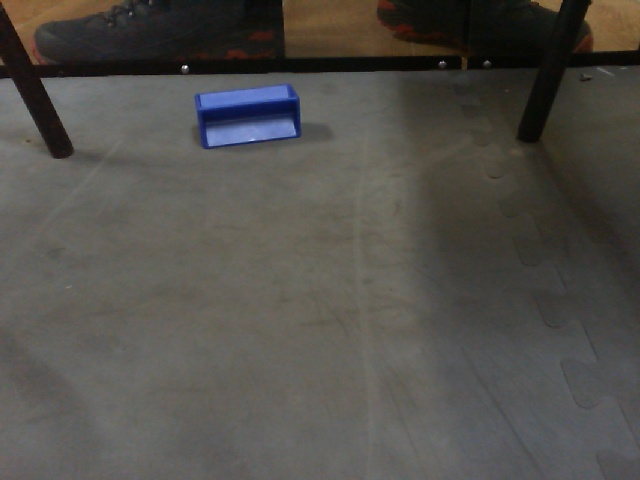BlueSample: (185, 82, 304, 154)
